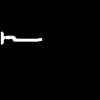half_double_crochet: (1, 32, 41, 43)
